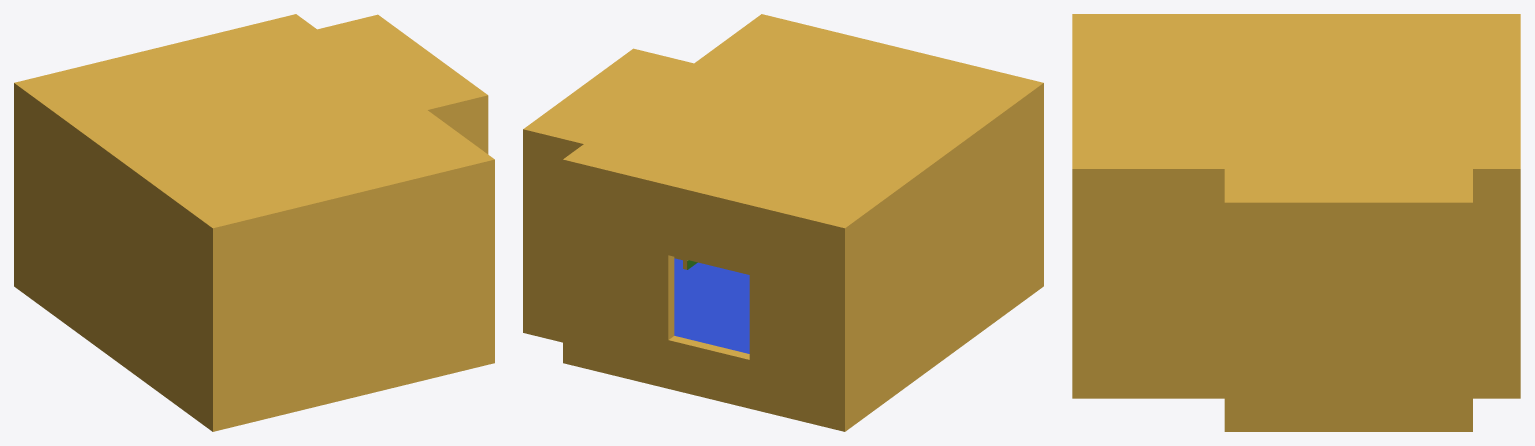
The model's file is StudioApartmentRoom1.1.fbx.
3 views of the same model, side by side, from view 1: azimuth 30°, elevation 25°; view 2: azimuth 150°, elevation 25°; view 3: azimuth 270°, elevation 25° (orthographic). The views are drawn at different scales.
Visible parts, largest first — view 1: Room; view 2: Room; view 3: Room.
Boxes of the visible parts, box(x1,y1,x2,y2) form: Room: box(14, 14, 494, 431); Room: box(523, 14, 1043, 431); Room: box(1072, 14, 1520, 431).
Bounding box in the file's own units: 5.64 × 5.66 × 3.2.
